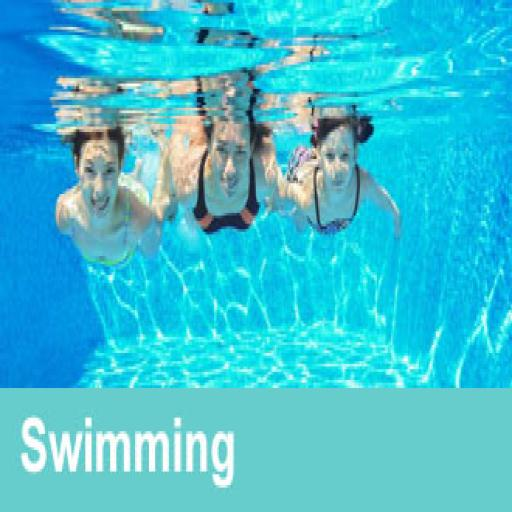swimming: (152, 70, 282, 237), (278, 97, 403, 243), (53, 119, 164, 272)
